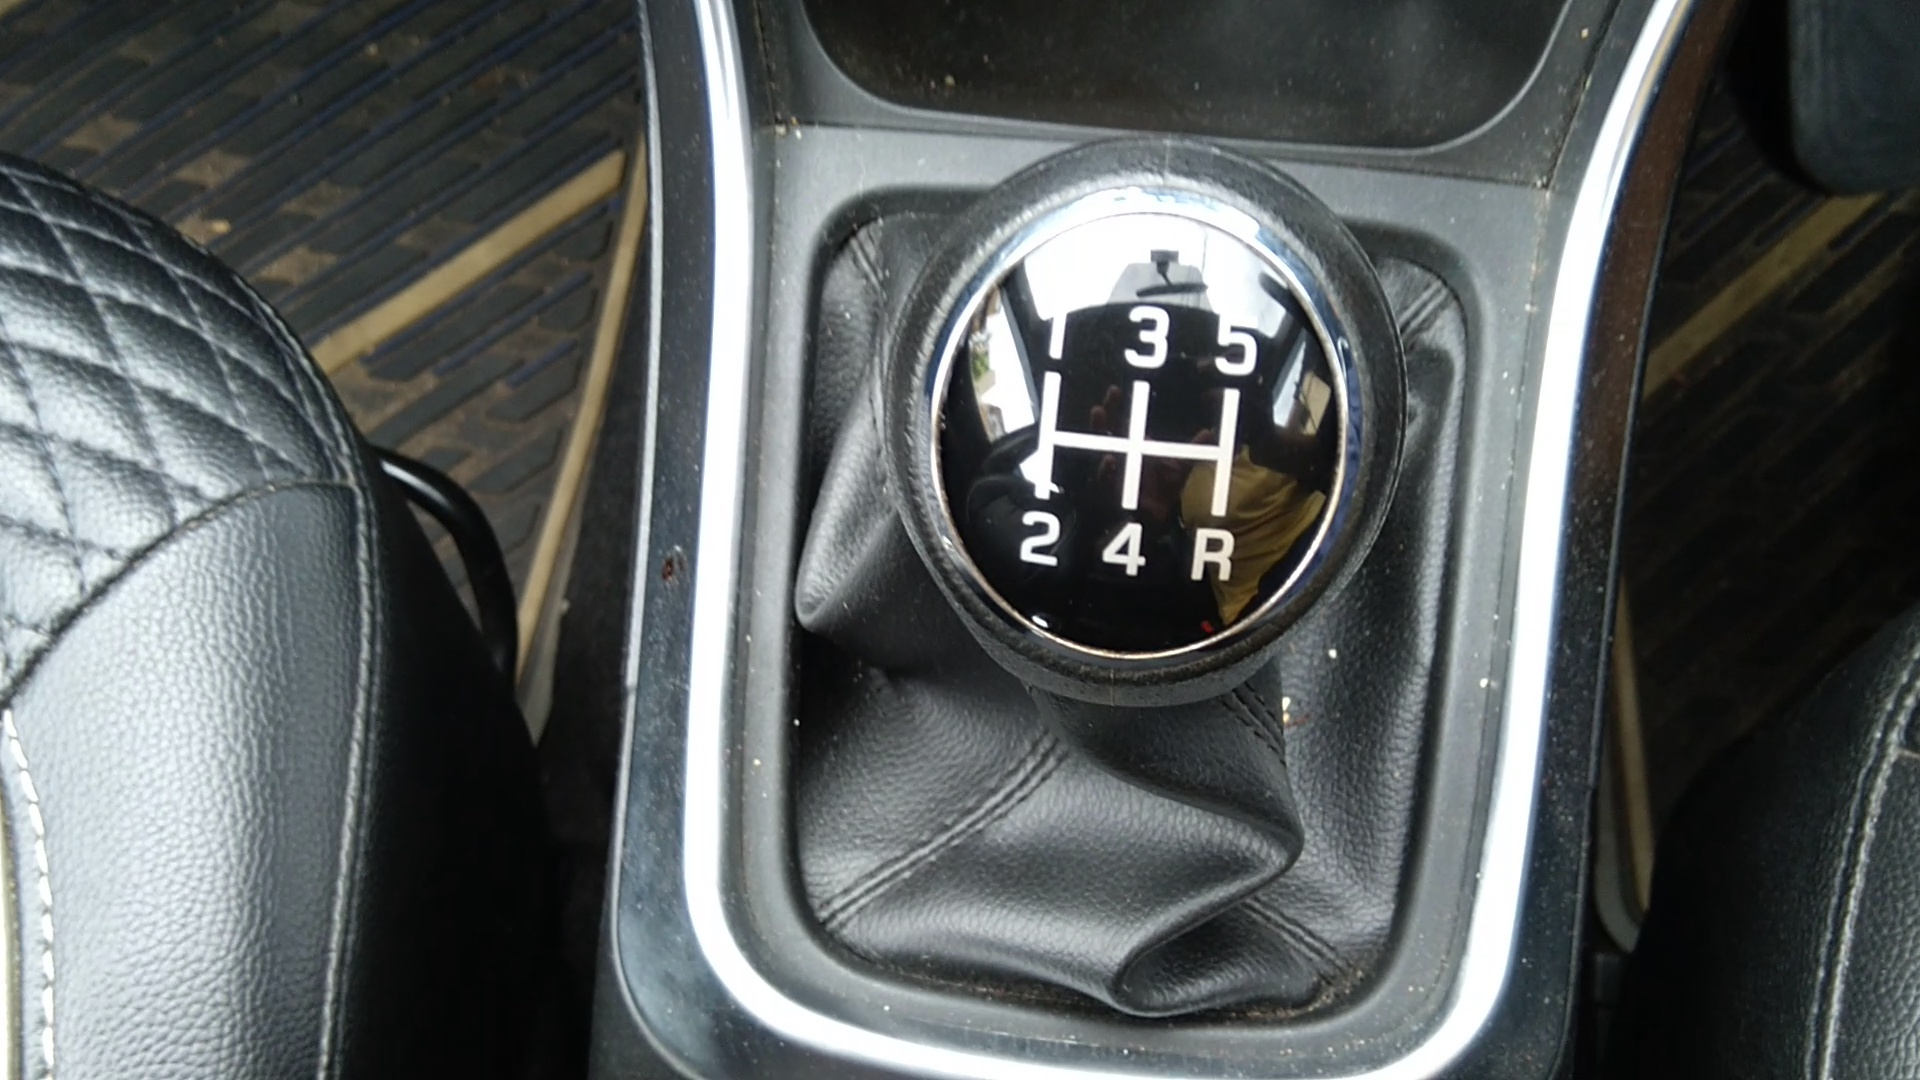manual_gear: (872, 120, 1408, 720)
